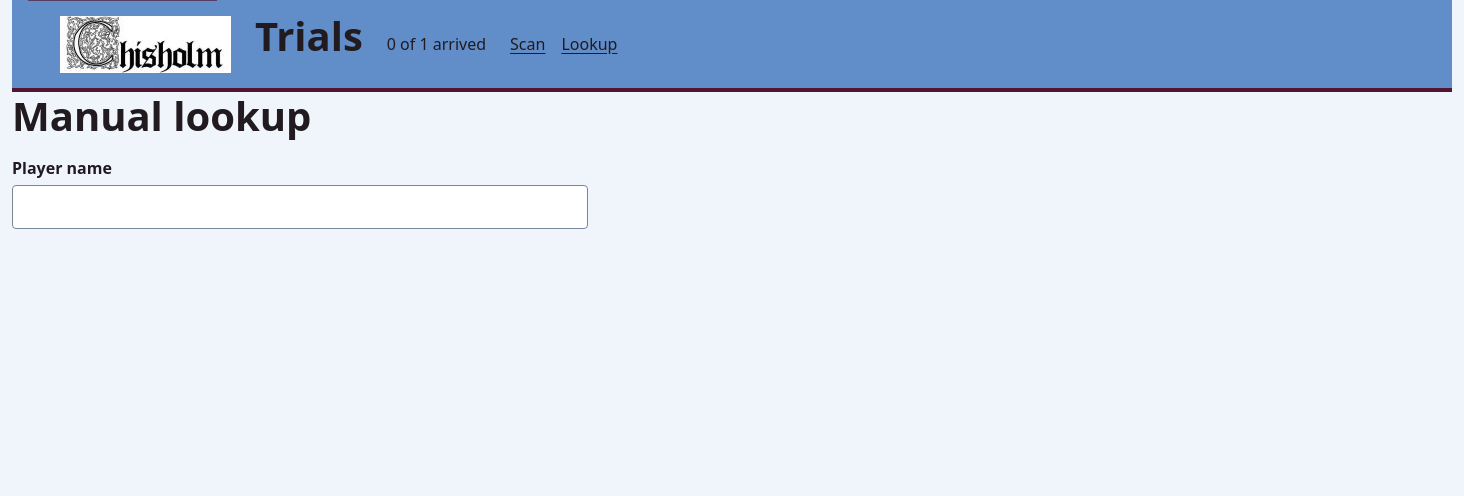
LookupPanel › refreshes the volunteer count after manual check-in and authorized undo
The image size is (1464, 496).
Expected: the text "0 of 1 arrived" is shown, [387,32,486,56]
Type "Ada" into the field labelled "Player name" at (300,207), box [12,185,588,229]
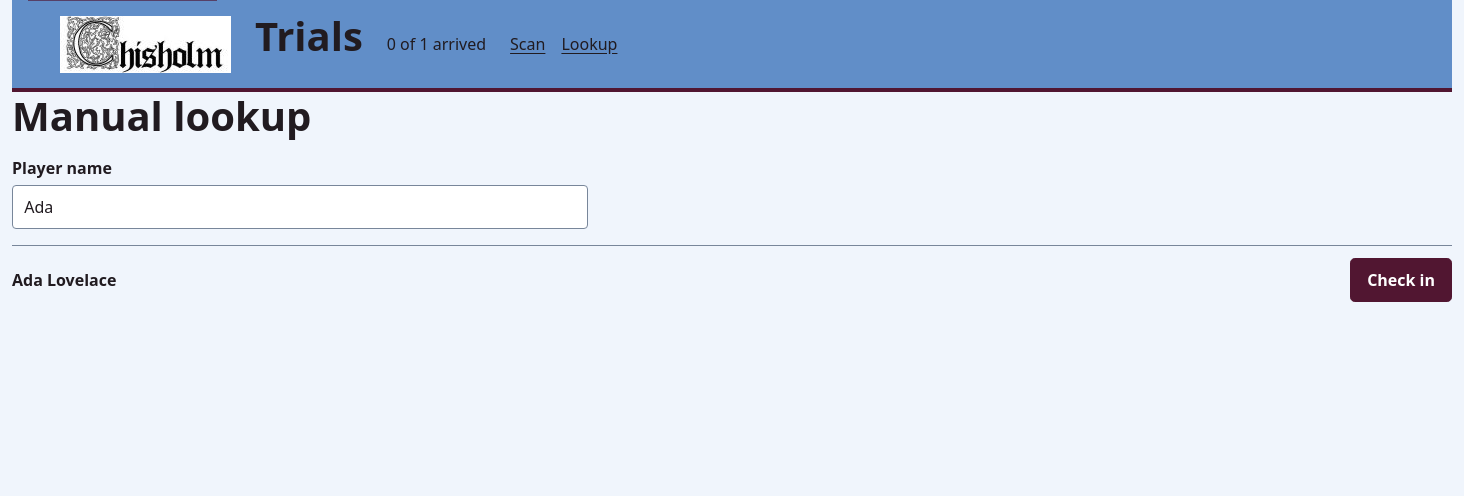
Click the button "Check in" at (1401,280), box [1350,258,1452,302]
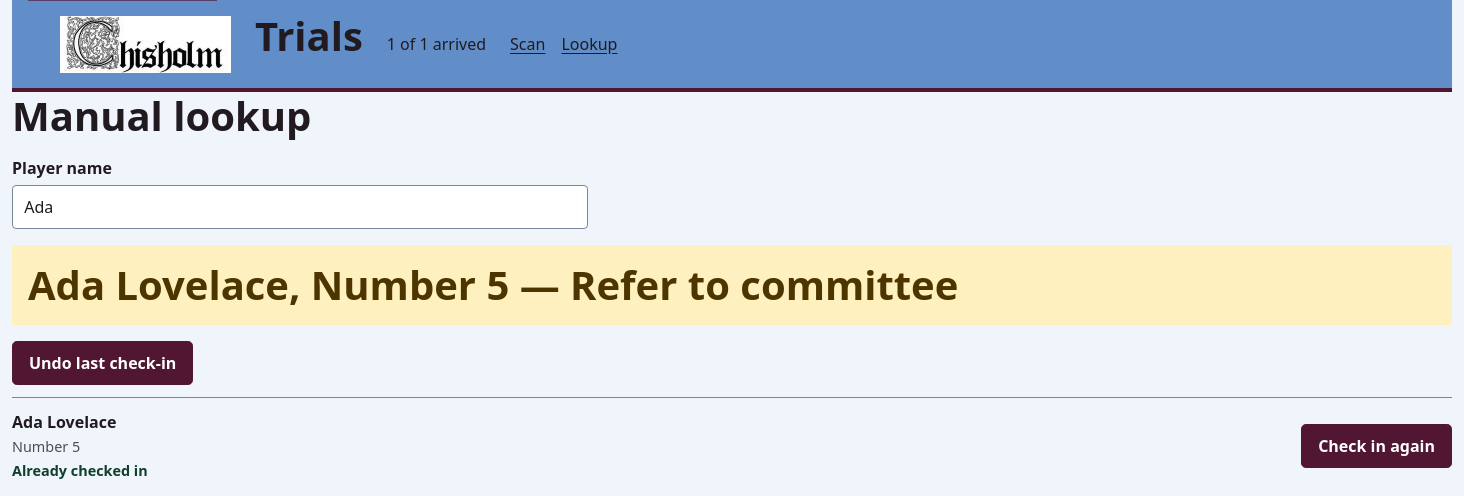
Expected: the message reads "Ada Lovelace, Number 5 — Refer to committee", [28,257,958,312]
Expected: the text "1 of 1 arrived" is shown, [387,32,486,56]
Click the button "Undo last check-in" at (103,363), box [12,341,193,385]
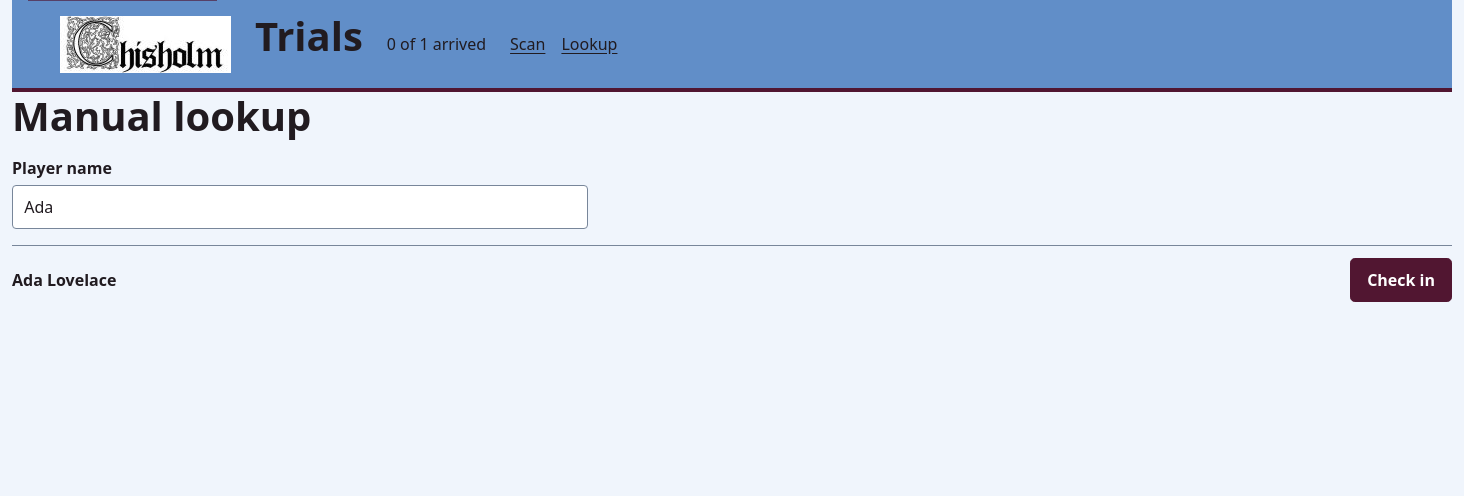
Expected: the text "0 of 1 arrived" is shown, [387,32,486,56]
